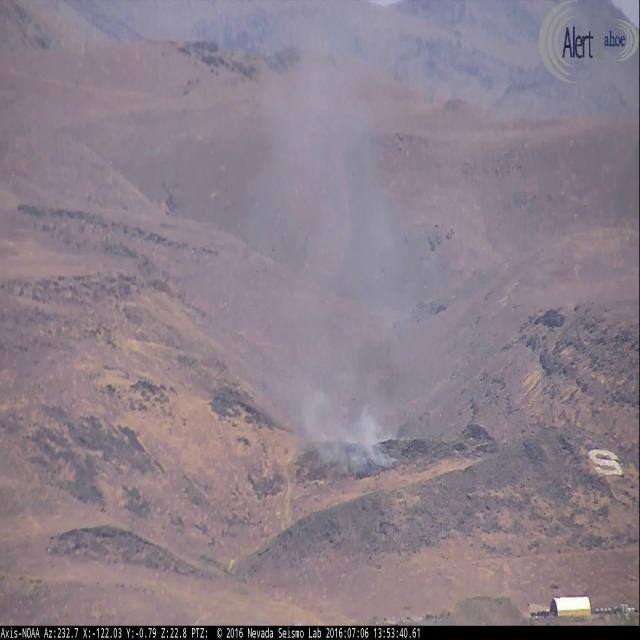smoke: (229, 0, 426, 486)
